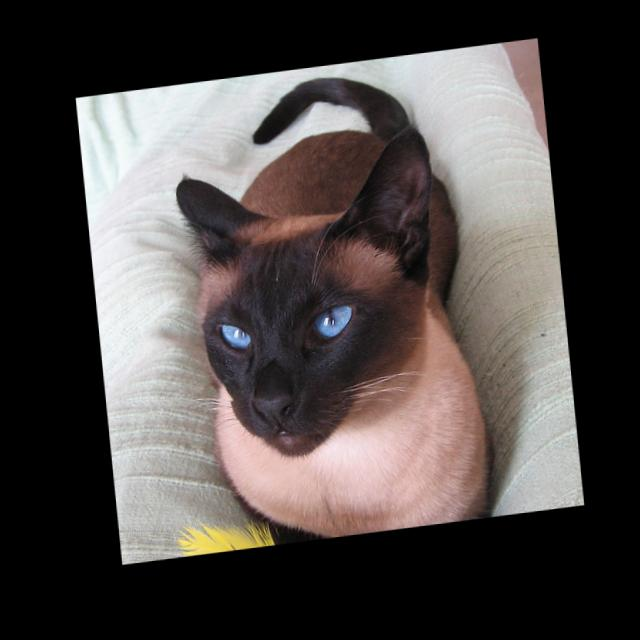animals: (181, 132, 434, 433)
